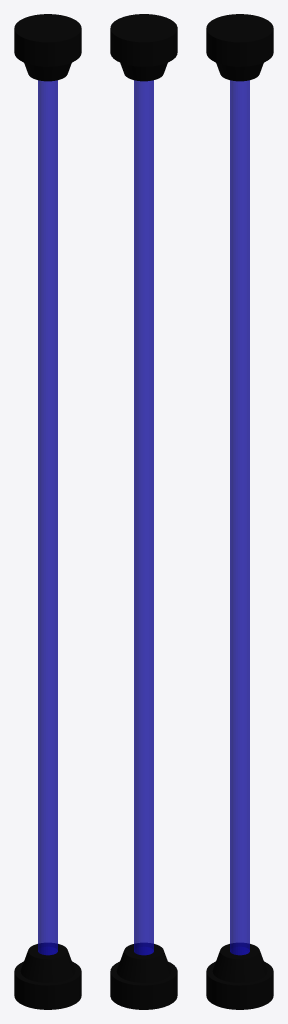
Rendered from bluelaser.fbx.
3 views of the same model, side by side, from view 1: azimuth 90°, elevation 25°; view 2: azimuth 150°, elevation 25°; view 3: azimuth 270°, elevation 25° (orthographic).
Visible parts, largest first — view 1: BlueOneSide.001, BlueOneSide.002, BlueOneSide; view 2: BlueOneSide.001, BlueOneSide.002, BlueOneSide; view 3: BlueOneSide.001, BlueOneSide.002, BlueOneSide.
Part boxes in pixels (left/top/right/bottom): BlueOneSide.001: left=38, top=80, right=57, bottom=955; BlueOneSide.002: left=14, top=14, right=81, bottom=81; BlueOneSide: left=14, top=943, right=81, bottom=1009; BlueOneSide.001: left=134, top=80, right=153, bottom=955; BlueOneSide.002: left=110, top=14, right=177, bottom=81; BlueOneSide: left=110, top=943, right=177, bottom=1009; BlueOneSide.001: left=230, top=80, right=249, bottom=955; BlueOneSide.002: left=206, top=14, right=273, bottom=81; BlueOneSide: left=206, top=943, right=273, bottom=1009.
Bounding box in the file's own units: 16.32 × 259 × 16.32.
